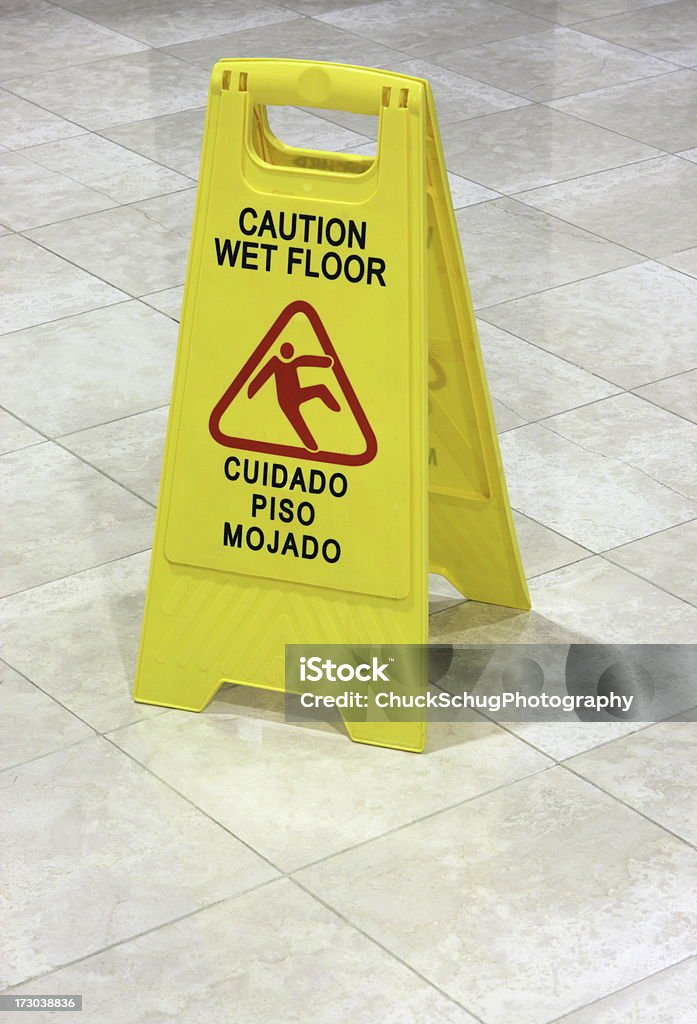wet caution sign: (77, 0, 536, 771)
